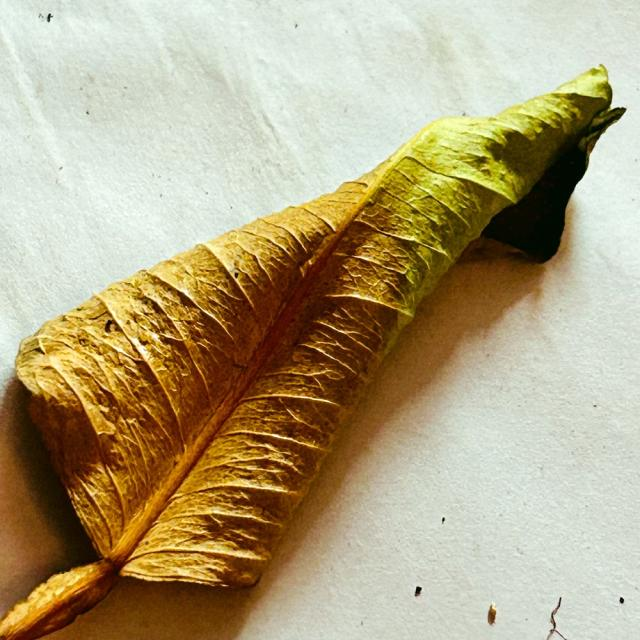DryLeaf_Lemon: (0, 126, 450, 639)
